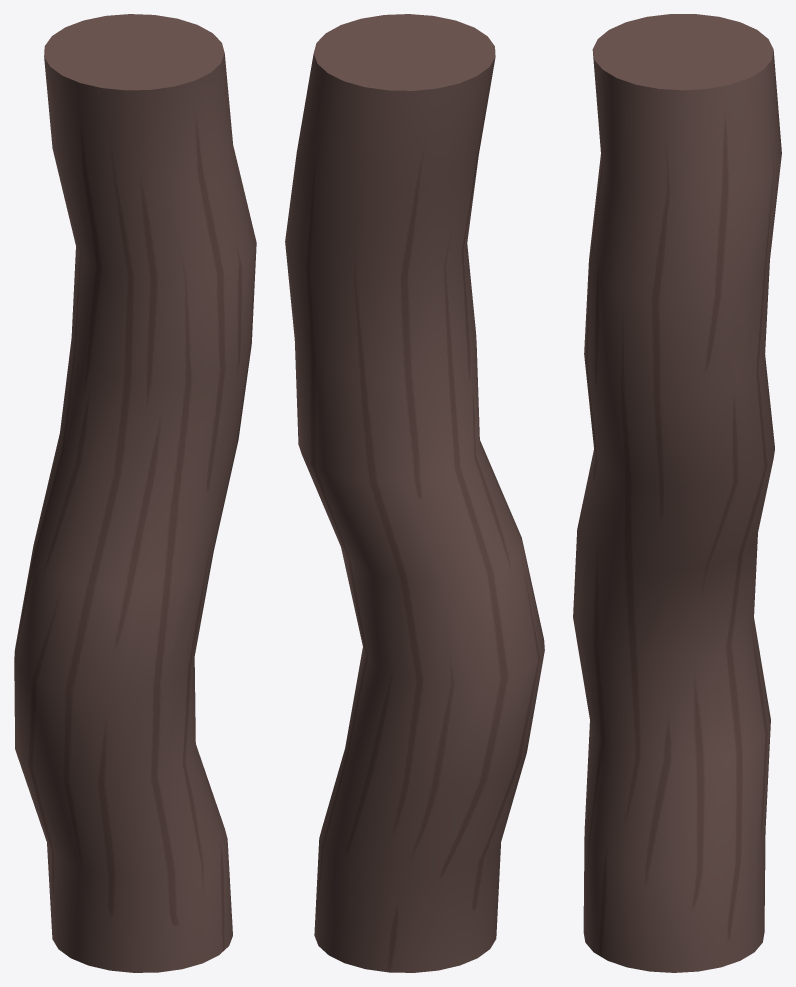
The model's file is Stick W COLLIDERS.fbx.
3 renders of one model, left to right at view 1: azimuth 30°, elevation 25°; view 2: azimuth 150°, elevation 25°; view 3: azimuth 270°, elevation 25°, orthographic.
Visible parts, largest first — view 1: Stick; view 2: Stick; view 3: Stick.
Boxes of the visible parts, bbox=[...] form: Stick: bbox=[14, 14, 256, 972]; Stick: bbox=[285, 14, 544, 972]; Stick: bbox=[573, 14, 781, 972].
Size of the model in its own units: 13.65 by 50.88 by 10.94.
Materials: 1 (1 with a texture image).
